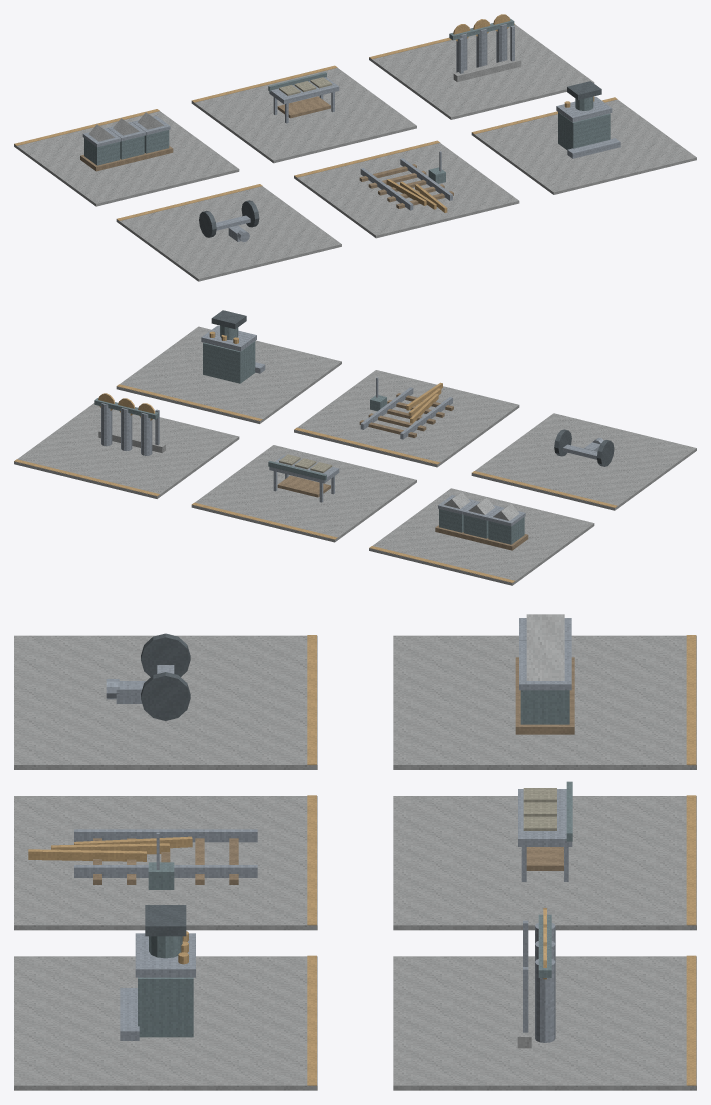
Rendered from level_blockout_kit_wld_13_p02.glb.
3 renders of one model, top to bottom at view 1: azimuth 30°, elevation 25°; view 2: azimuth 150°, elevation 25°; view 3: azimuth 270°, elevation 25°, orthographic. The views are drawn at different scales.
Visible parts, largest first — view 1: level_blockout_kit_wld_13_p02; view 2: level_blockout_kit_wld_13_p02; view 3: level_blockout_kit_wld_13_p02.
Part boxes in pixels (x1=…): level_blockout_kit_wld_13_p02: x1=14, y1=14, x2=696, y2=281; level_blockout_kit_wld_13_p02: x1=14, y1=310, x2=696, y2=585; level_blockout_kit_wld_13_p02: x1=14, y1=614, x2=696, y2=1090.
Size of the model in its own units: 19.65 by 2.24 by 12.6.
Materials: 7 (7 with a texture image).
